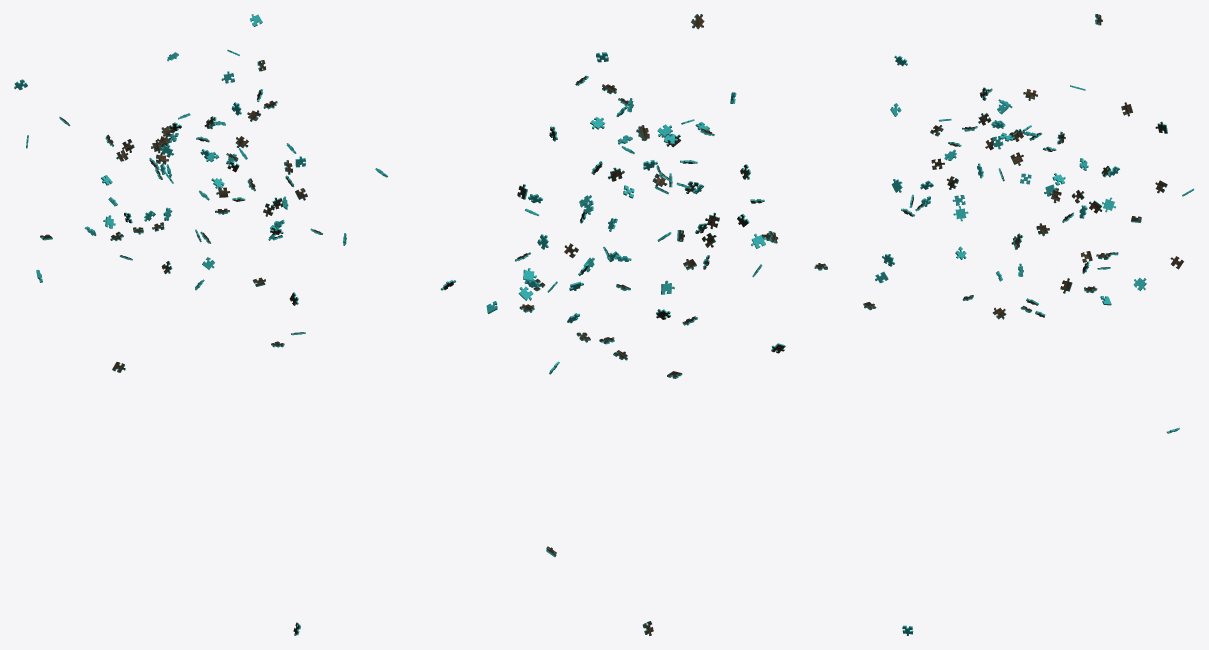
3 renders of one model, left to right at view 1: azimuth 30°, elevation 25°; view 2: azimuth 150°, elevation 25°; view 3: azimuth 270°, elevation 25°, orthographic. The views are drawn at different scales.
Size of what is drawn, in the model's own units: 41.4 by 75.41 by 46.23.
Materials: 2 (1 with a texture image).
